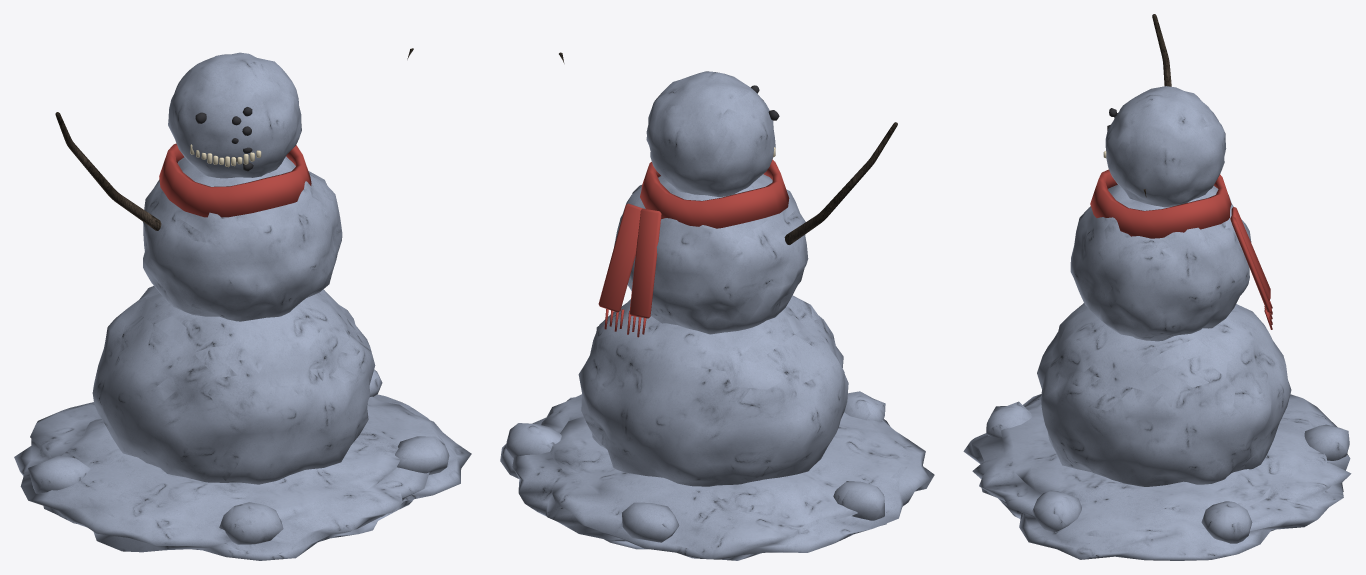
The model's file is snowman.glb.
3 renders of one model, left to right at view 1: azimuth 30°, elevation 25°; view 2: azimuth 150°, elevation 25°; view 3: azimuth 270°, elevation 25°, orthographic. The views are drawn at different scales.
Parts seen in each view (by area): view 1: Snowman, Scarf, Arms, Face; view 2: Snowman, Scarf, Arms; view 3: Snowman, Scarf, Arms.
Part boxes in pixels (x1,y1,x2,y2): Snowman: (14, 52, 471, 560); Scarf: (159, 143, 311, 217); Arms: (55, 48, 413, 230); Face: (190, 107, 261, 171); Snowman: (500, 71, 934, 560); Scarf: (598, 159, 789, 337); Arms: (559, 52, 897, 244); Snowman: (963, 86, 1351, 560); Scarf: (1090, 169, 1272, 329); Arms: (1143, 14, 1171, 197).
Size of the model in its own units: 2.04 by 2.1 by 1.87.
5 materials, 2 textured.
